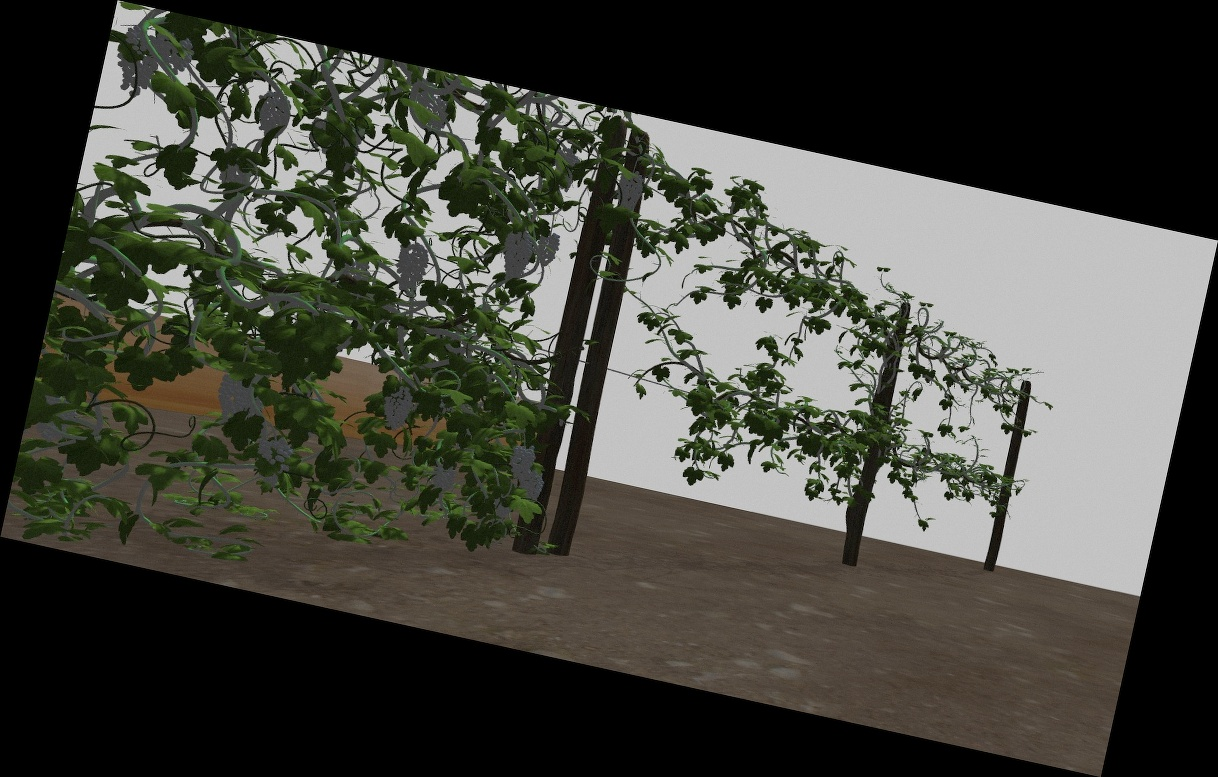grape: (117, 28, 156, 96), (216, 372, 252, 421), (396, 240, 427, 295), (501, 231, 532, 285), (258, 90, 289, 139), (383, 384, 412, 432), (159, 38, 193, 74), (256, 432, 291, 465), (617, 172, 643, 211), (508, 445, 535, 479), (535, 229, 559, 267), (519, 472, 543, 501), (432, 464, 455, 492)
